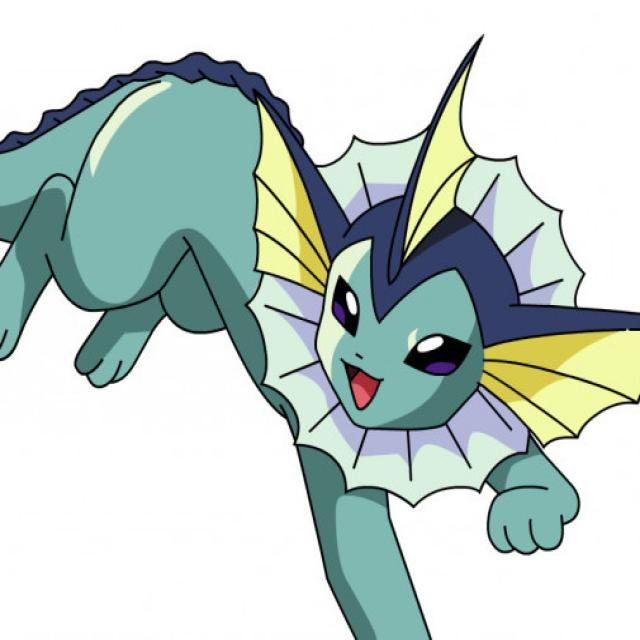Vaporeon: (47, 98, 606, 532)
